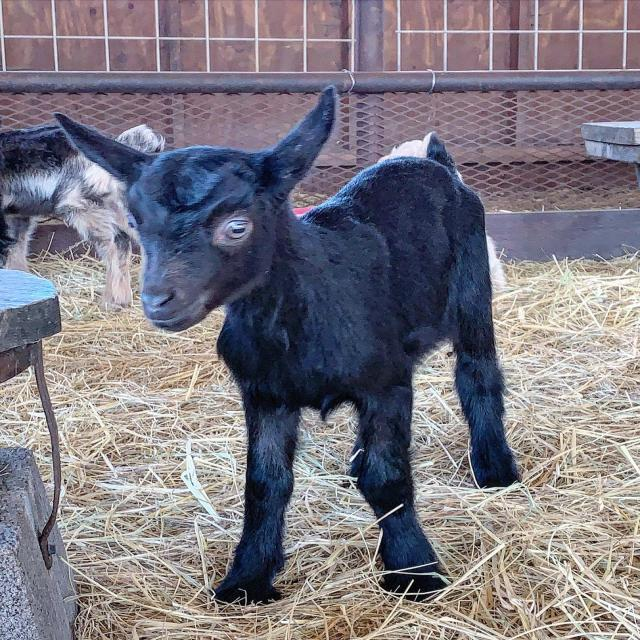goat: (28, 88, 552, 617)
